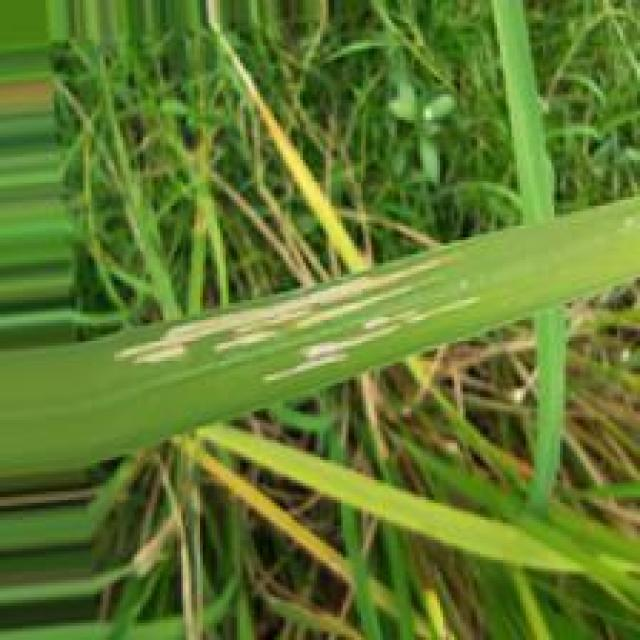Rice_Hispa: (109, 259, 465, 368), (259, 297, 491, 386)
